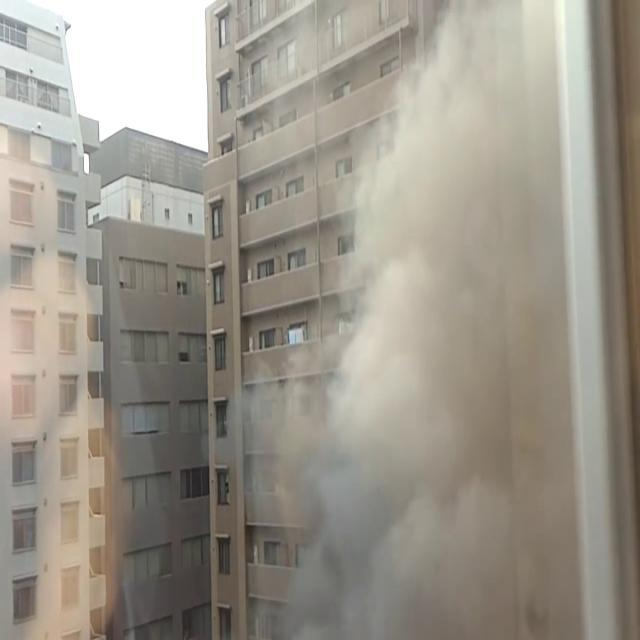Smoke: (248, 2, 562, 638)
